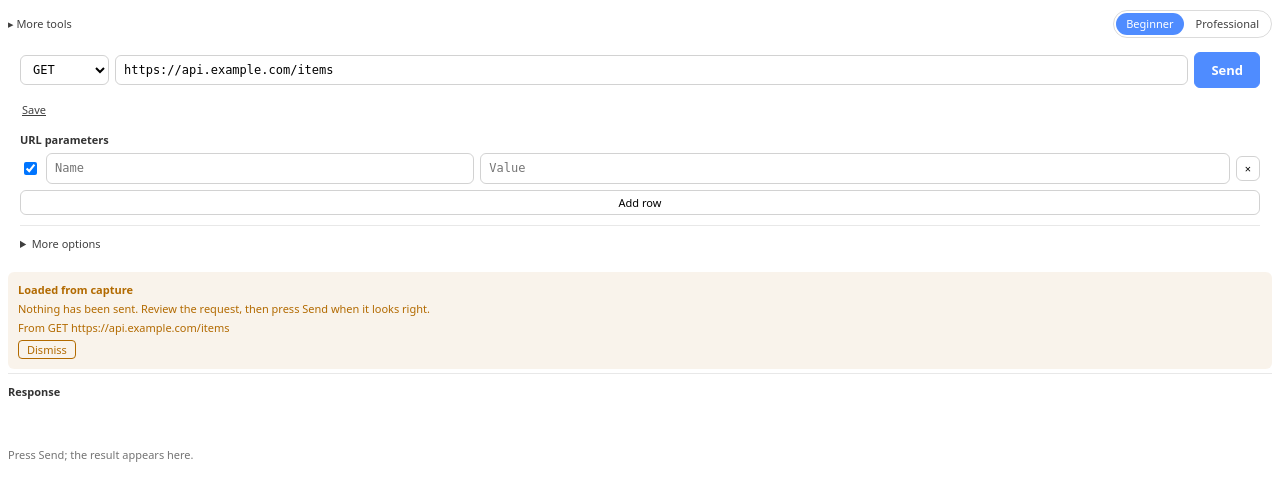
Test: ApiWorkbench acceptance › explains a full collection instead of a generic save failure
Click the button "Save" at (34, 110), box [20, 100, 48, 120]
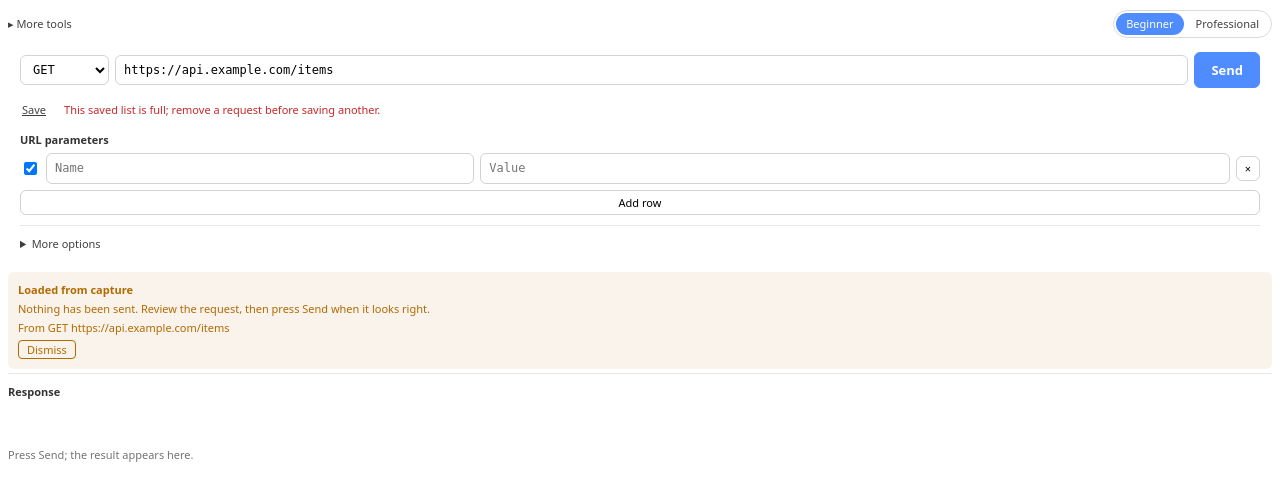
Expected: the text "This saved list is full; remove a request before saving another." is shown, [64, 102, 380, 118]
